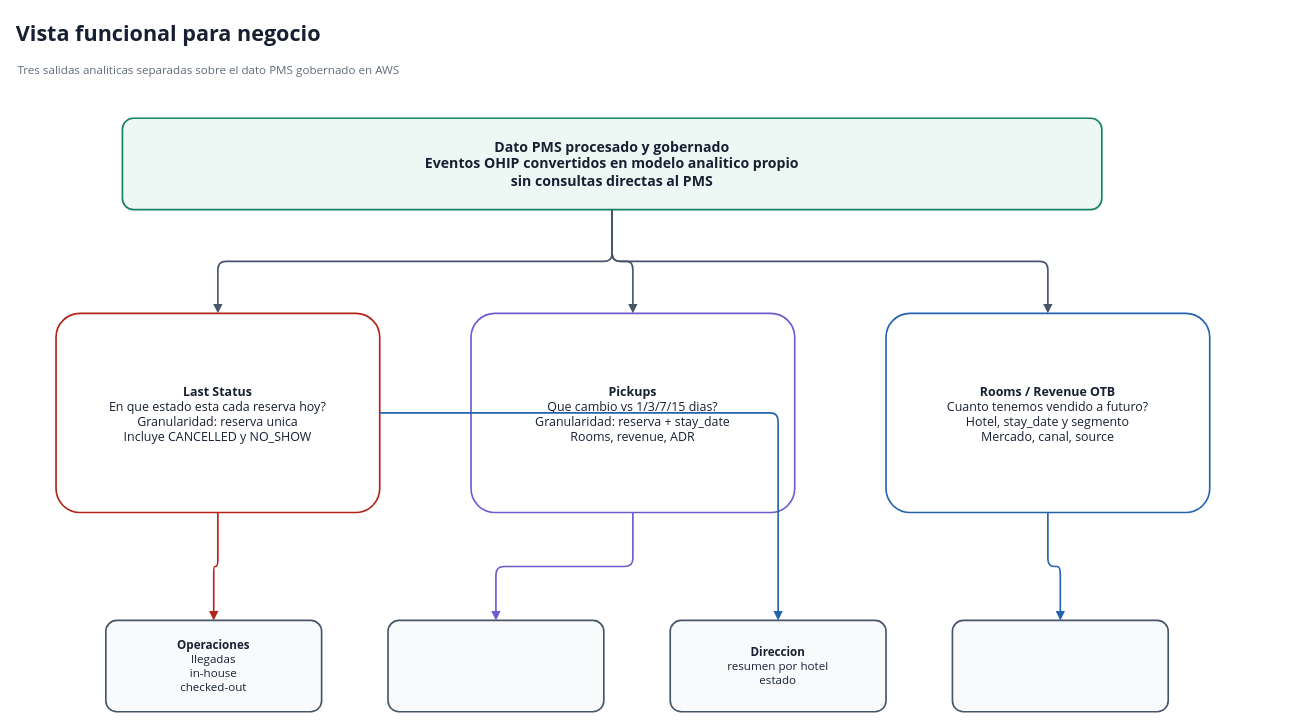
Some shapes in this 1290 by 726 pixel diagram are drawn without their labels. The centre of each missing label's shape, as x and y in pixels:
BI / Data dashboards SQL estable: the point at 1060,665
Revenue pickups ADR forecast base: the point at 495,665
